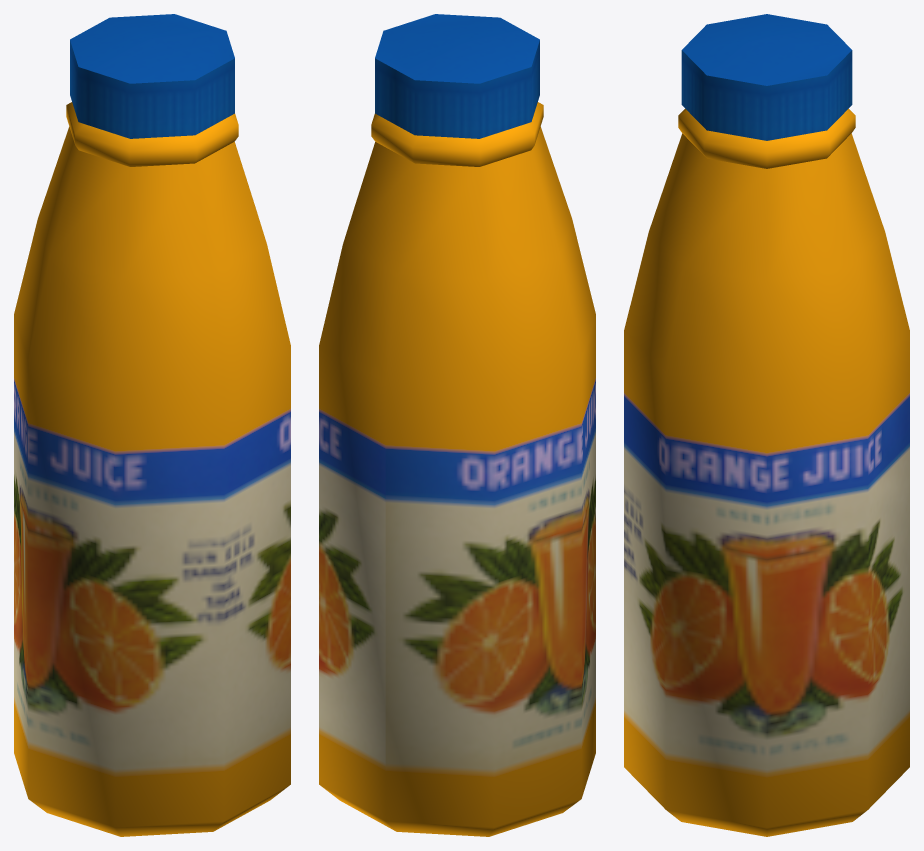
File: Product_orange_j2.FBX
The picture shows the model from 3 angles, left to right: view 1: azimuth 30°, elevation 25°; view 2: azimuth 150°, elevation 25°; view 3: azimuth 270°, elevation 25°; orthographic projection.
Parts seen in each view (by area): view 1: product_orange_j2_LOD00; view 2: product_orange_j2_LOD00; view 3: product_orange_j2_LOD00.
Part boxes in pixels (x1,y1,x2,y2): product_orange_j2_LOD00: [14, 14, 290, 836]; product_orange_j2_LOD00: [319, 14, 595, 836]; product_orange_j2_LOD00: [624, 14, 909, 836].
Size of what is drawn, in the model's own units: 0.0932 by 0.2681 by 0.0932.
